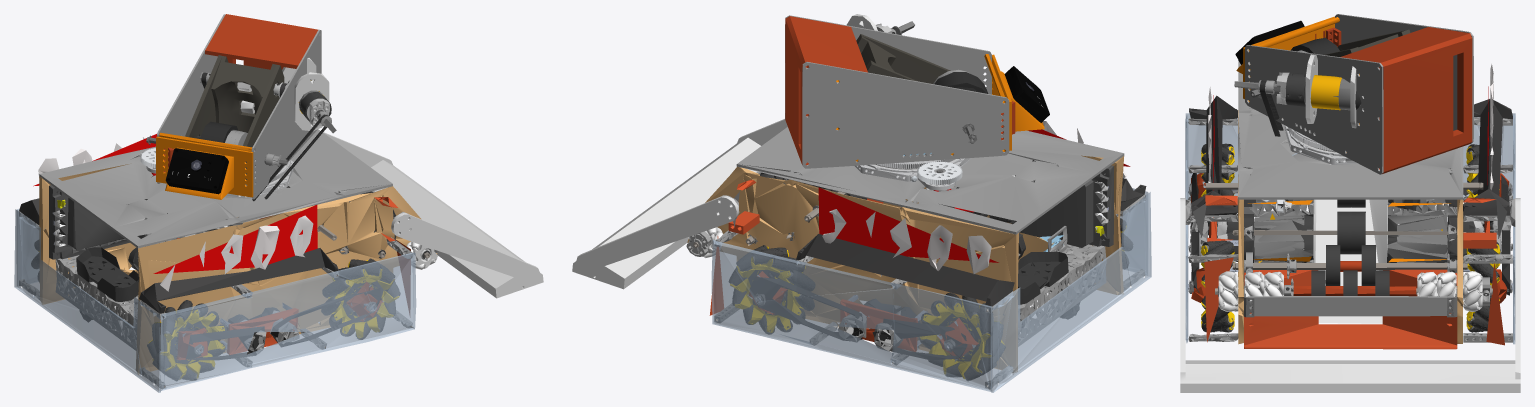
File: full-bot.glb
The picture shows the model from 3 angles, left to right: view 1: azimuth 30°, elevation 25°; view 2: azimuth 150°, elevation 25°; view 3: azimuth 270°, elevation 25°; orthographic projection. The views are drawn at different scales.
Visible parts, largest first — view 1: frame, right-drive, shooter, intake, electronics, left-drive, turret; view 2: frame, left-drive, shooter, intake, electronics, right-drive, turret; view 3: intake, frame, shooter, right-drive, left-drive, turret.
Part boxes in pixels (left/top/right/bottom): frame: left=14, top=129, right=392, bottom=392; right-drive: left=136, top=186, right=437, bottom=390; shooter: left=146, top=14, right=336, bottom=201; intake: left=259, top=132, right=543, bottom=298; electronics: left=49, top=185, right=138, bottom=301; left-drive: left=16, top=164, right=259, bottom=304; turret: left=140, top=148, right=293, bottom=198; frame: left=736, top=121, right=1151, bottom=392; left-drive: left=687, top=166, right=1018, bottom=391; shooter: left=785, top=14, right=1049, bottom=168; intake: left=572, top=119, right=883, bottom=322; electronics: left=1003, top=160, right=1113, bottom=314; right-drive: left=883, top=155, right=1148, bottom=294; turret: left=855, top=158, right=971, bottom=191; intake: left=1180, top=182, right=1520, bottom=392; frame: left=1185, top=61, right=1515, bottom=323; shooter: left=1234, top=14, right=1473, bottom=174; right-drive: left=1185, top=110, right=1253, bottom=344; left-drive: left=1447, top=114, right=1515, bottom=345; turret: left=1284, top=125, right=1357, bottom=164.
Size of the model in its own units: 0.5665 by 0.3594 by 0.3823.
